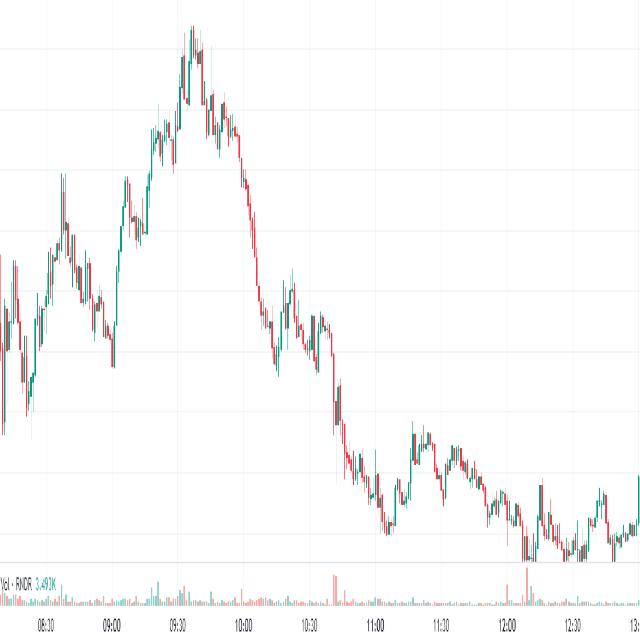Channel-down: (37, 150, 135, 392)
Head-Shoulders: (110, 6, 277, 398)
